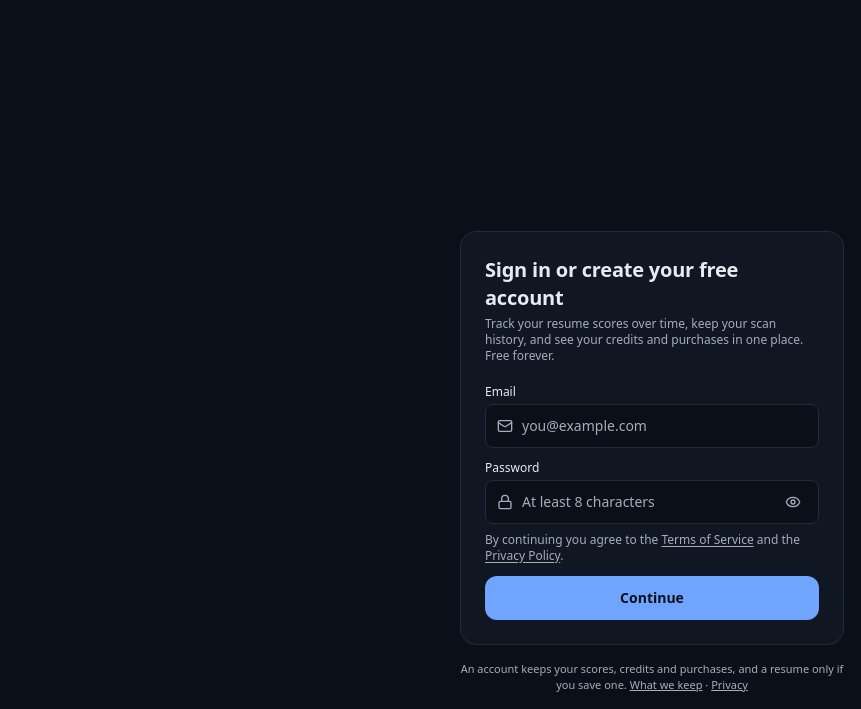
Test: the password path: sign in first, a new account only when asked › an existing member whose password fails today's strength rule still signs in (the review blocker, S12-058)
This screenshot has width=861, height=709.
In the field labelled "Email": {"x": 652, "y": 426} [485,404,819,448], type "member@example.com"
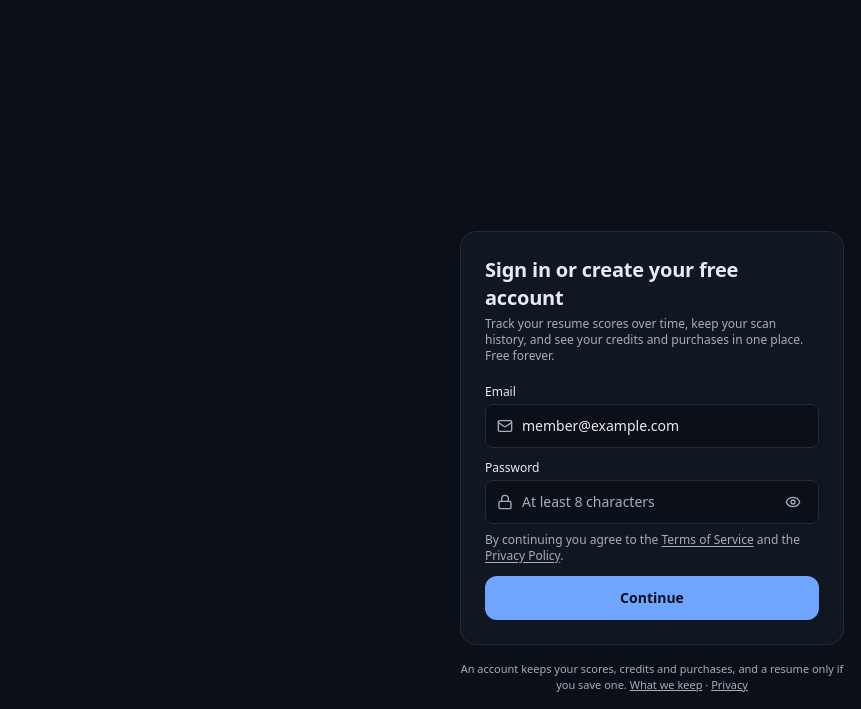
In the password field labelled "Password": {"x": 652, "y": 502} [485,480,819,524], type "password123"
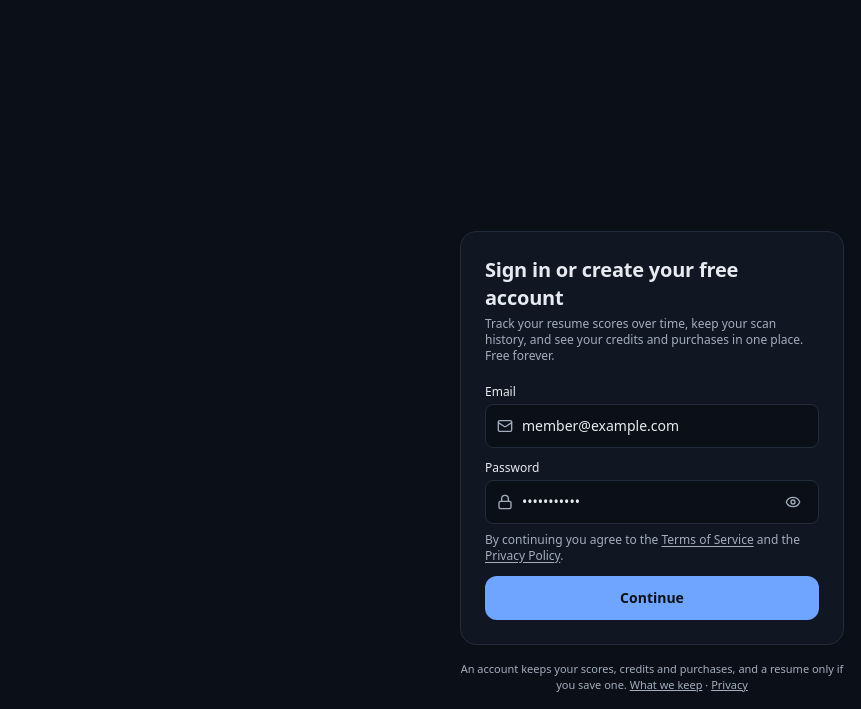
Click the button "Continue": {"x": 652, "y": 598} [485,576,819,620]
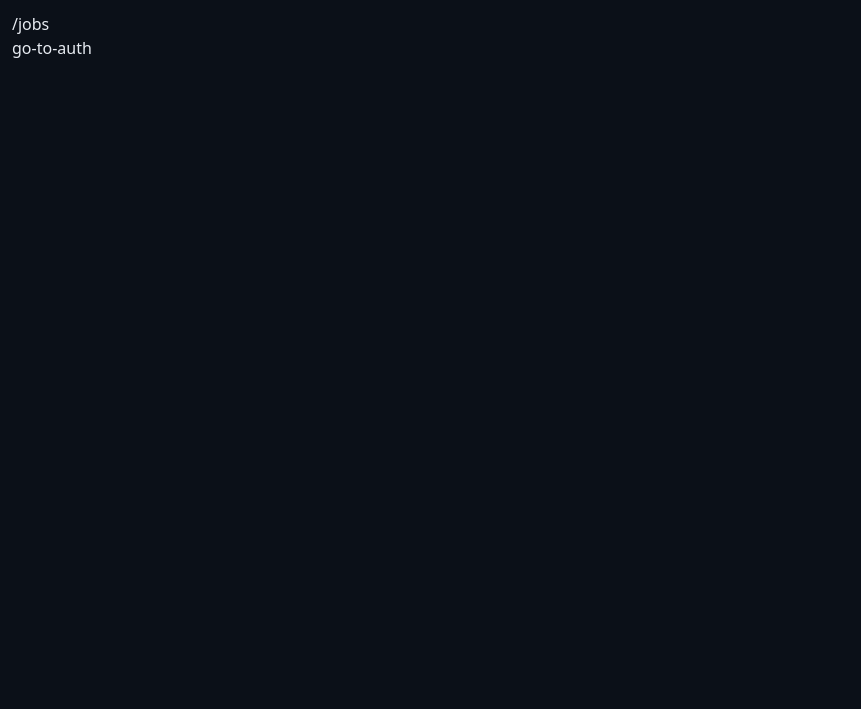
Expected: the text with test id "where" reads "/jobs", [12,13,49,35]
